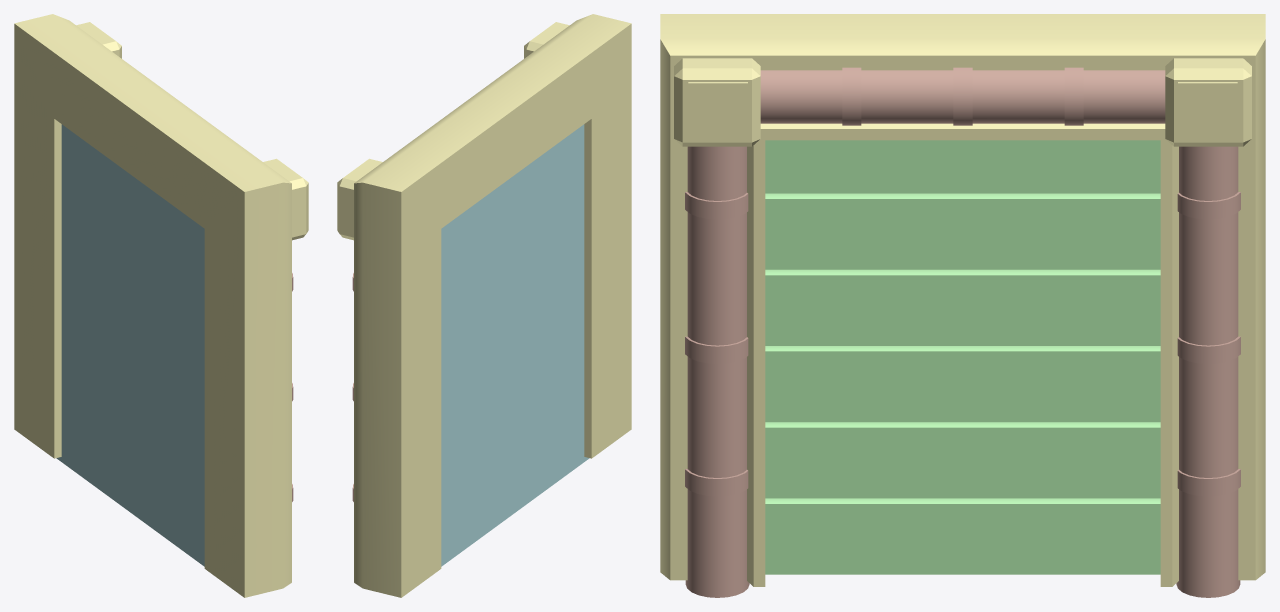
File: Mesh_EnemyFloorSpawnGate_V3.fbx
3 views of the same model, side by side, from view 1: azimuth 30°, elevation 25°; view 2: azimuth 150°, elevation 25°; view 3: azimuth 270°, elevation 25° (orthographic). The views are drawn at different scales.
Visible parts, largest first — view 1: Frame, Dark_Wall, pCube2; view 2: Frame, Dark_Wall, pCube2; view 3: Frame, pCylinder1 (×2), Gate_2, Gate_5, Gate_1, Gate_3, Gate_4, Gate_6, pCube2, pCylinder5, pCube3, pCylinder4.
Part boxes in pixels (x1,y1,x2,y2): Frame: (14, 14, 291, 597); Dark_Wall: (56, 124, 204, 566); pCube2: (76, 22, 308, 240); Frame: (354, 14, 631, 597); Dark_Wall: (441, 124, 589, 566); pCube2: (337, 22, 569, 240); Frame: (660, 14, 1265, 586); pCylinder1 (×2): (685, 70, 1240, 597); Gate_2: (765, 422, 1160, 498); Gate_5: (765, 193, 1160, 269); Gate_1: (765, 498, 1160, 574); Gate_3: (765, 346, 1160, 422); Gate_4: (765, 270, 1160, 345); Gate_6: (765, 140, 1160, 193); pCube2: (674, 58, 1251, 146); pCylinder5: (685, 192, 1240, 496); pCube3: (688, 82, 1237, 137); pCylinder4: (842, 67, 1083, 125).
Bounding box in the file's own units: 82.2 × 435 × 441.
